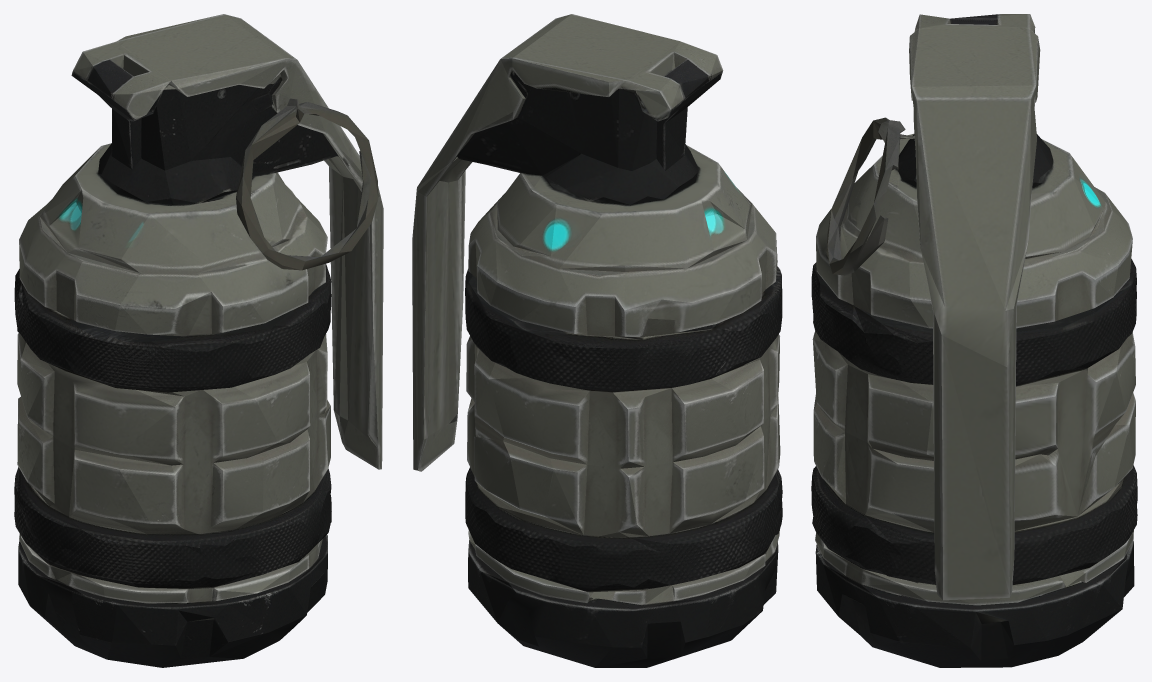
The model's file is frag_grenade.glb.
3 views of the same model, side by side, from view 1: azimuth 30°, elevation 25°; view 2: azimuth 150°, elevation 25°; view 3: azimuth 270°, elevation 25° (orthographic). The views are drawn at different scales.
Parts seen in each view (by area): view 1: Mesh_0; view 2: Mesh_0; view 3: Mesh_0.
Part boxes in pixels (x1=…): Mesh_0: x1=14, y1=14, x2=383, y2=667; Mesh_0: x1=412, y1=14, x2=782, y2=667; Mesh_0: x1=811, y1=14, x2=1137, y2=667.
Size of the model in its own units: 1.17 by 1.9 by 0.9741.
Materials: 1 (1 with a texture image).
